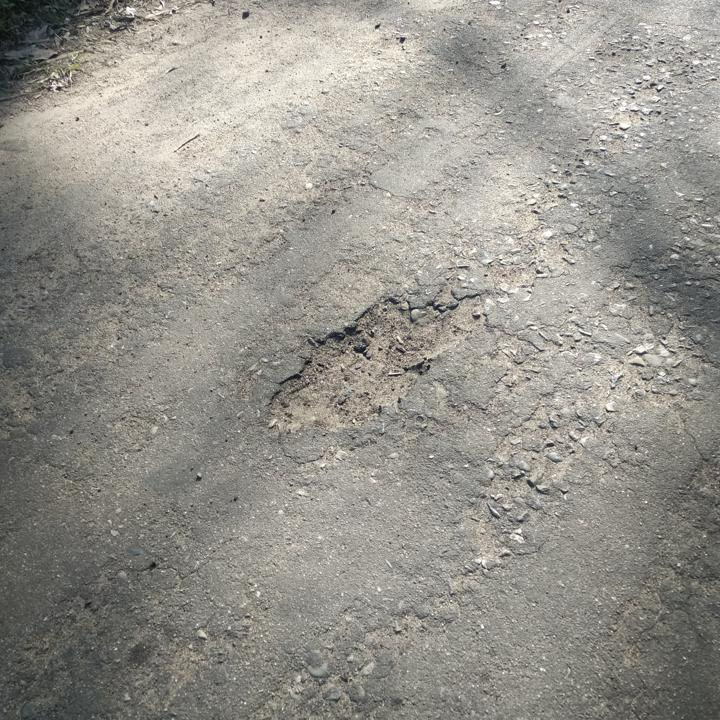pothole: (260, 287, 493, 433)
